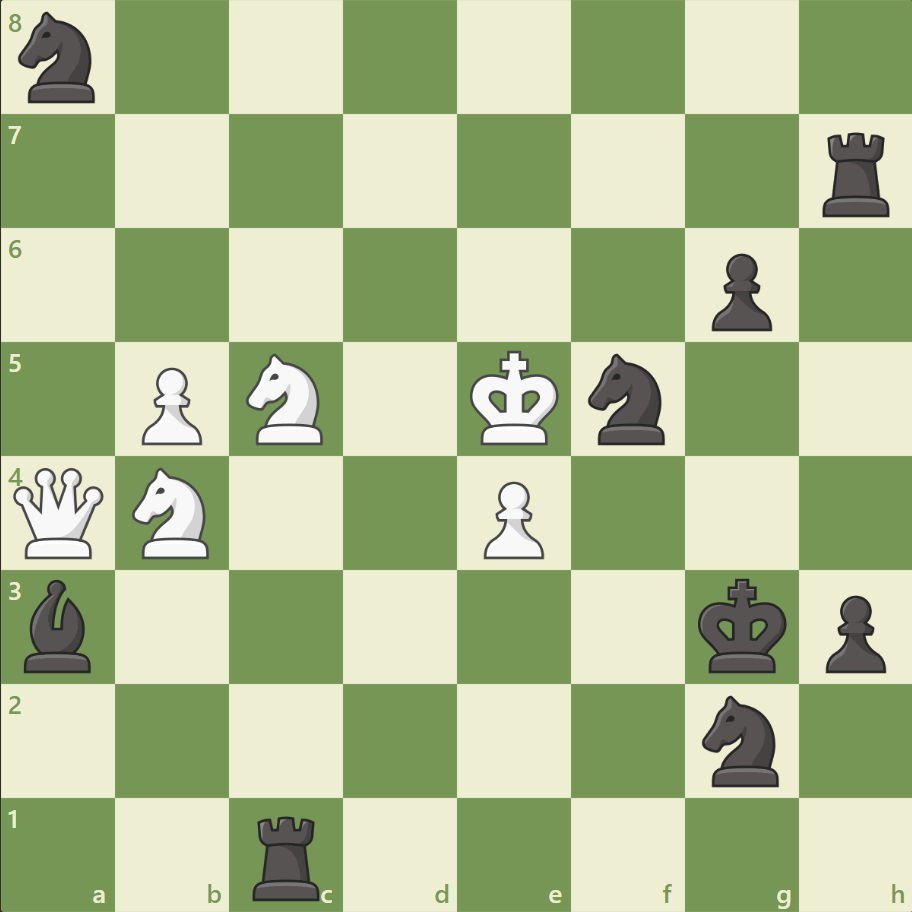K: (465, 344, 565, 452)
N: (124, 461, 222, 564), (238, 348, 335, 450)
P: (133, 359, 208, 450), (474, 473, 549, 564)
Q: (10, 463, 109, 562)
b: (17, 574, 101, 676)
k: (692, 571, 792, 679)
n: (11, 7, 108, 110), (692, 688, 789, 791), (579, 348, 676, 450)
p: (701, 246, 776, 337), (815, 586, 889, 677)
r: (246, 806, 329, 904), (814, 125, 897, 222)
